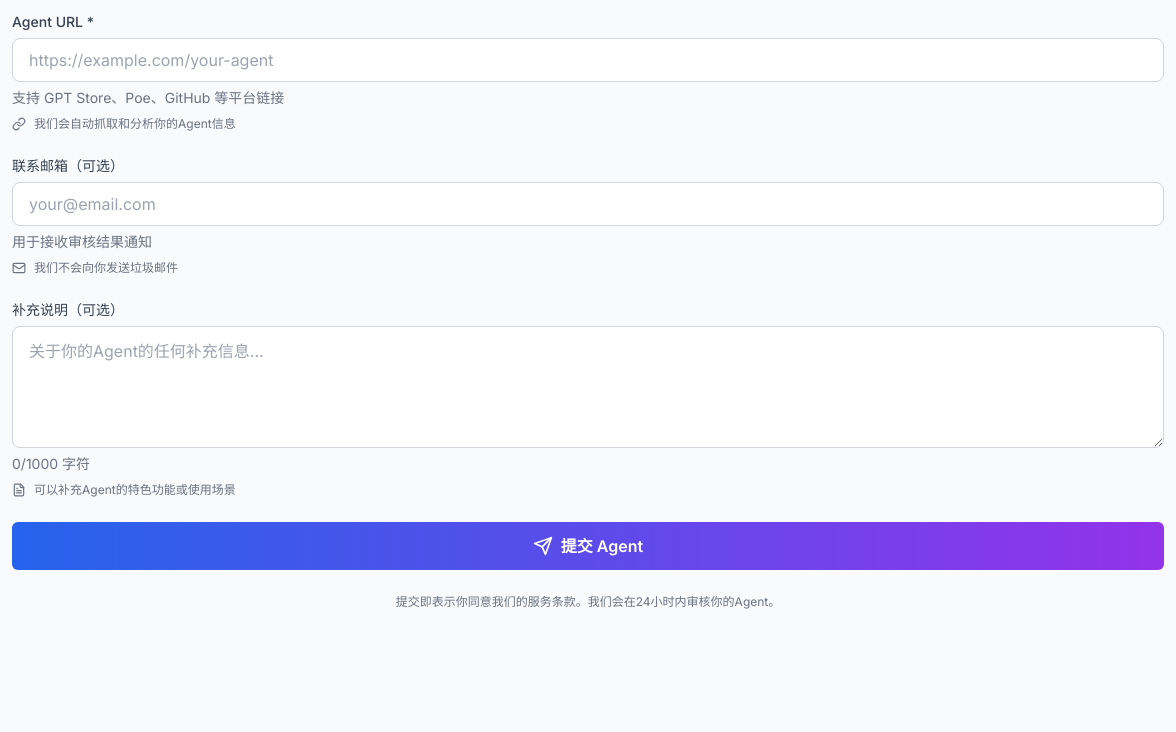
Test case: PublishAgentForm › 表单交互测试 › 应该在提交时显示加载状态
Type "https://example.com" into the field labelled "Agent URL *".
click(588, 60); type("https://example.com")  # box [12,38,1164,82]
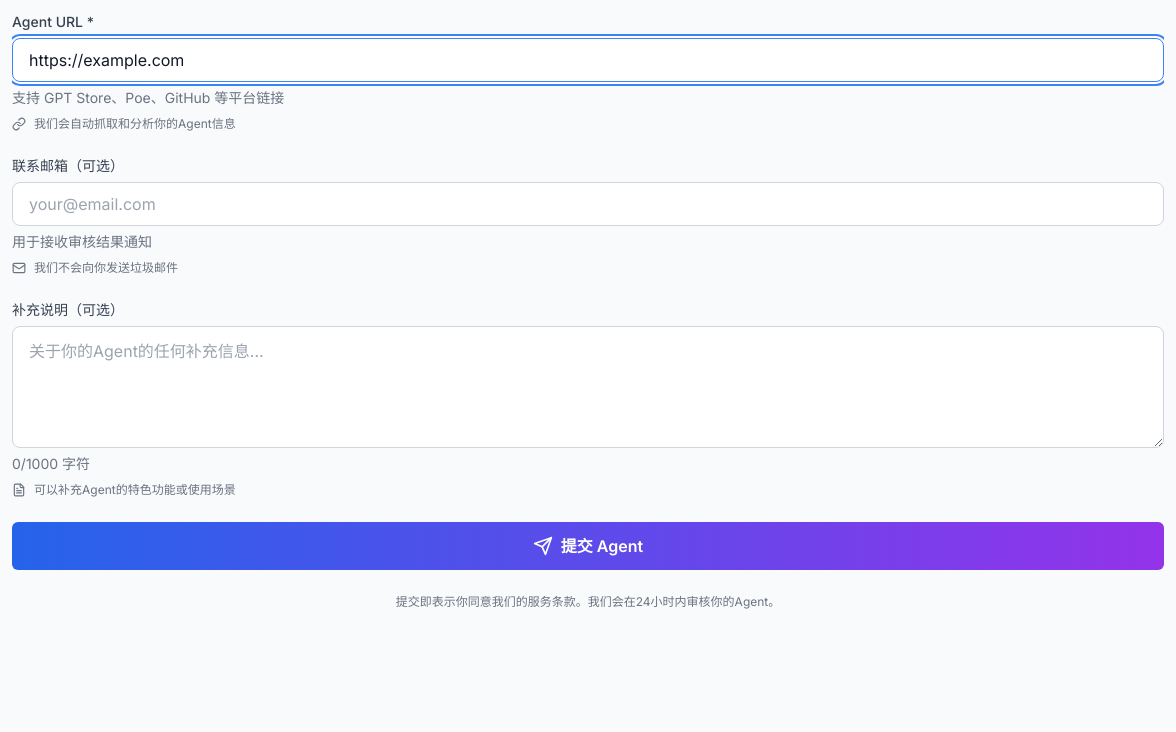
Click the button "提交 Agent".
click(588, 546)  # box [12,522,1164,570]
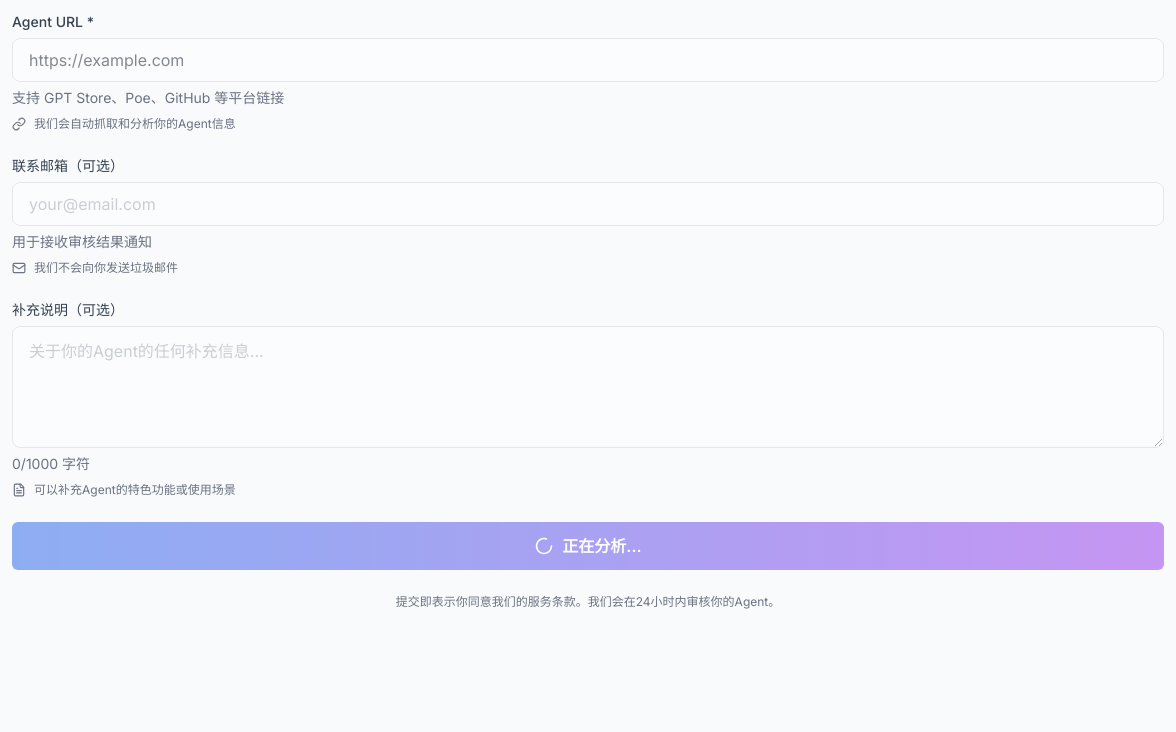
Check: the text "正在分析..." is shown, box [562,534,642,558]
Check: the button named "提交 Agent" is disabled, box [12,522,1164,570]
